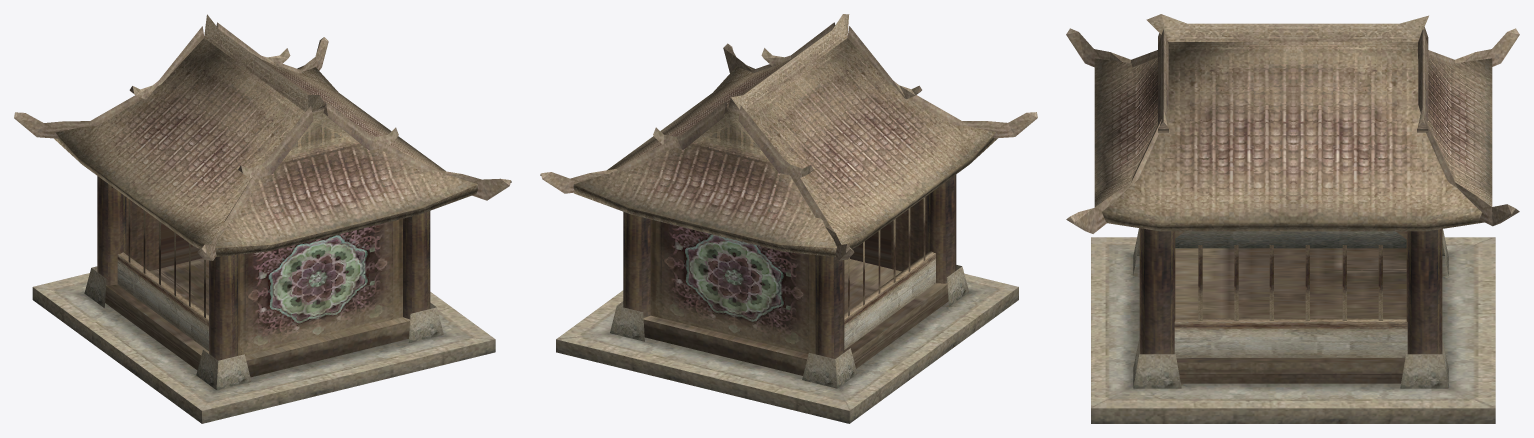
File: desert-004-house2_lod_01.fbx
3 views of the same model, side by side, from view 1: azimuth 30°, elevation 25°; view 2: azimuth 150°, elevation 25°; view 3: azimuth 270°, elevation 25° (orthographic). The views are drawn at different scales.
Visible parts, largest first — view 1: ob-004-hause2; view 2: ob-004-hause2; view 3: ob-004-hause2.
Part boxes in pixels (bbox=[...]): ob-004-hause2: bbox=[14, 14, 511, 423]; ob-004-hause2: bbox=[540, 14, 1037, 423]; ob-004-hause2: bbox=[1066, 14, 1519, 423].
Size of the model in its own units: 4.01 by 3.31 by 4.19.
